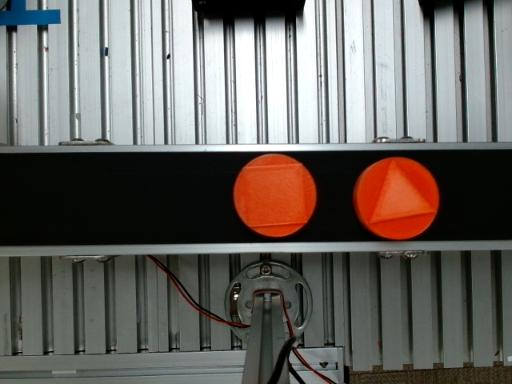Not_Square: (367, 157, 437, 225)
Orange_Waper: (353, 157, 440, 239), (233, 154, 316, 238)
Square: (244, 163, 308, 227)
